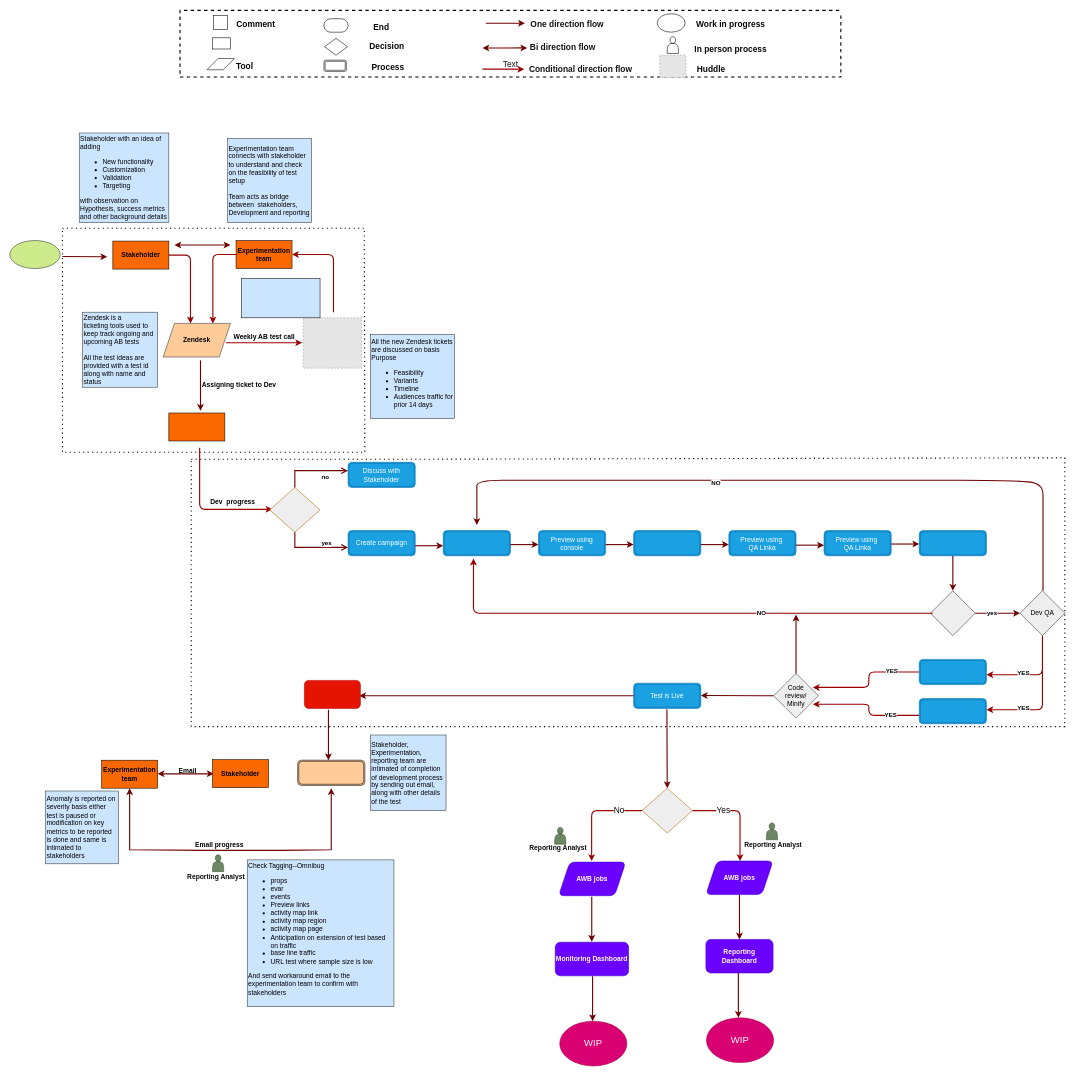
Image size: 1076x1076. Some labels were removed from this diagram. Grey dashed boxes stand in for pictures. The box of each missing label's shape, as (x1, y1, x2, y2) in pixels:
Basis of outcome of meeting request are modified or Assigned to Developer: (241, 278, 320, 318)
Biz QA: (930, 590, 975, 636)
Build code in code Editor: (443, 530, 510, 556)
Check coding Standards: (919, 530, 986, 556)
Combine code in target: (633, 530, 701, 556)
Developer: (168, 412, 225, 441)
Development End: (304, 680, 360, 708)
QA Email: (297, 760, 365, 785)
Send CRB Approval: (919, 659, 986, 685)
Send for UAT: (919, 698, 986, 724)
Start: (9, 240, 60, 269)
Technical Feasibility: (269, 487, 320, 532)
Test End: (641, 788, 692, 833)
